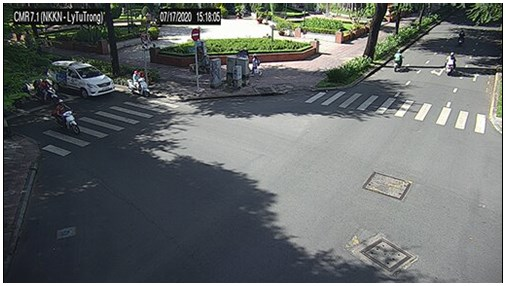xe_may: (53, 100, 82, 136), (127, 69, 151, 98), (34, 79, 58, 103), (444, 51, 457, 77), (392, 49, 404, 72), (457, 30, 467, 48)
xe_taxi: (48, 61, 116, 99)
